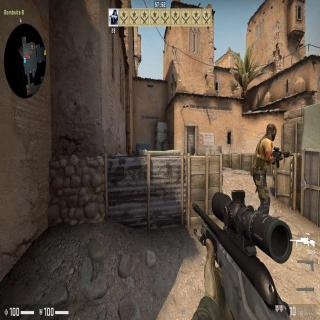T-Body: (250, 121, 282, 215)
T-Head: (266, 123, 277, 140)
